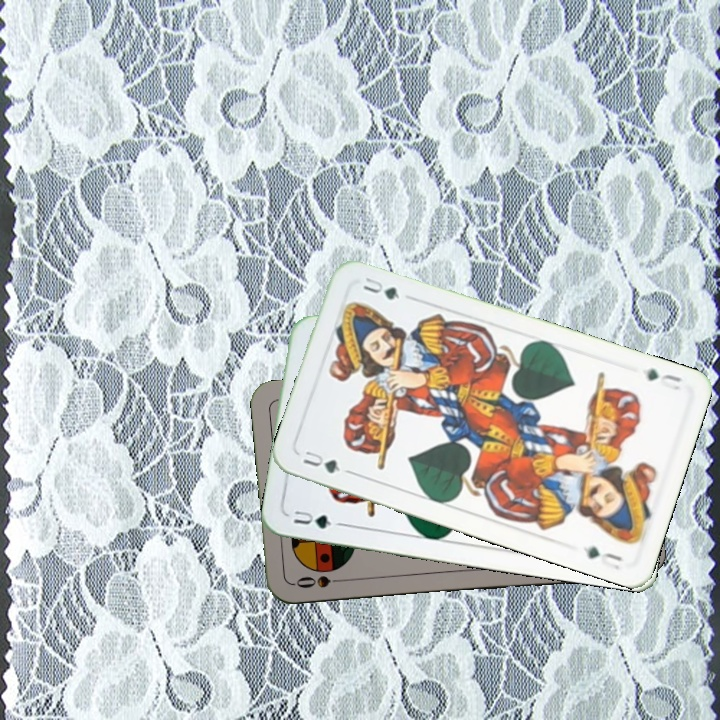GU: (299, 445, 343, 476), (643, 364, 684, 393), (290, 506, 334, 531)
SO: (291, 571, 350, 591)
